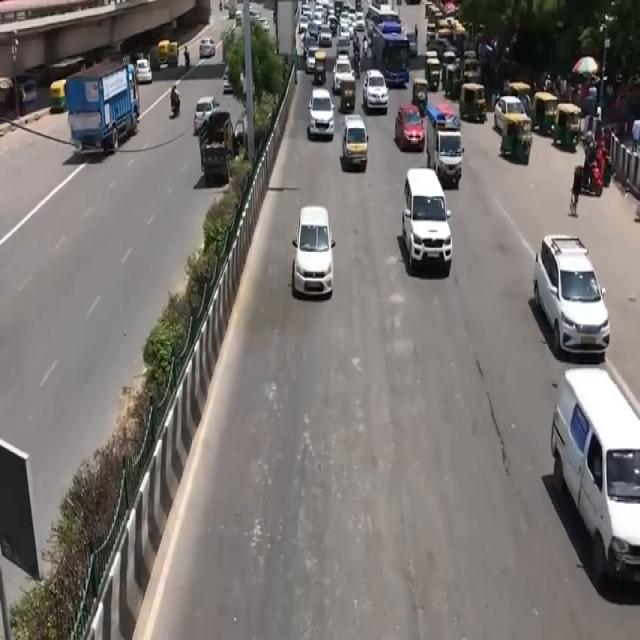TRUCK: (63, 61, 137, 163), (424, 96, 463, 192)
